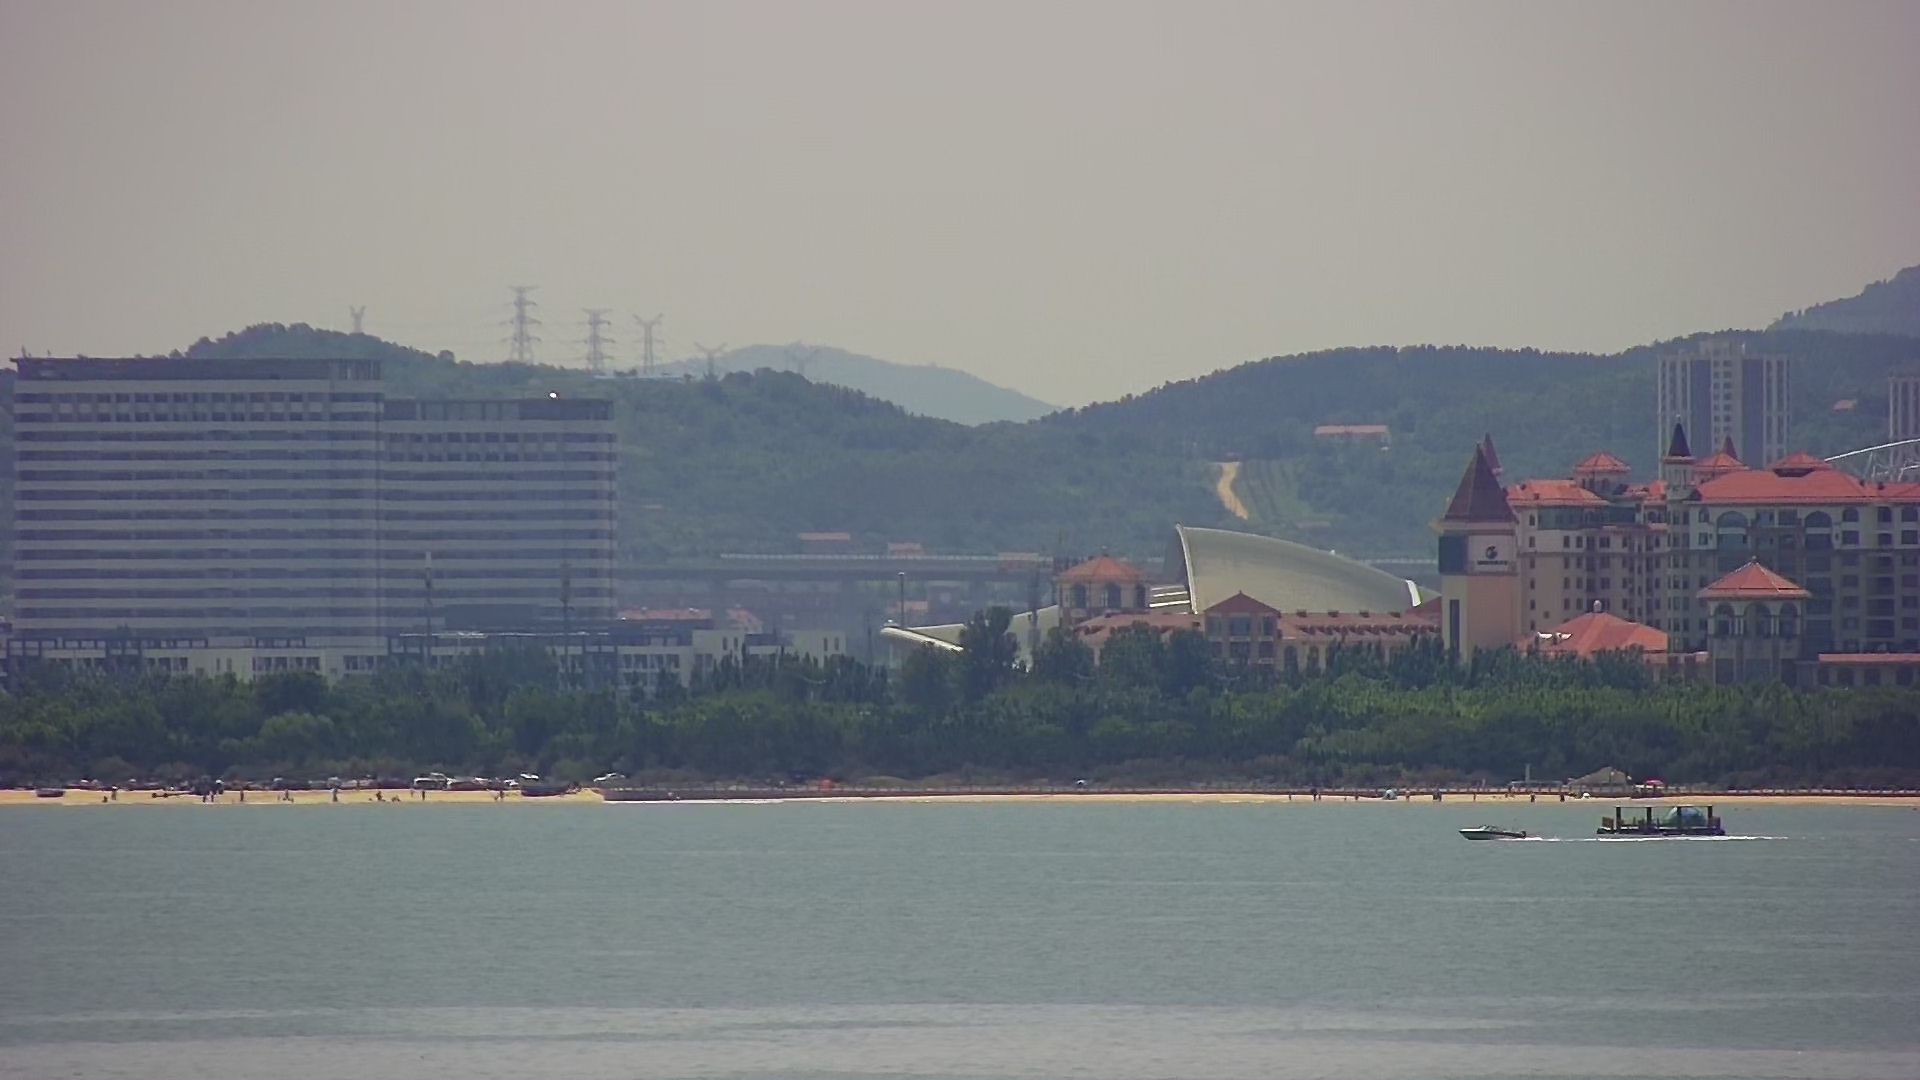boat: (1458, 819, 1534, 845)
platform: (1592, 798, 1738, 843)
